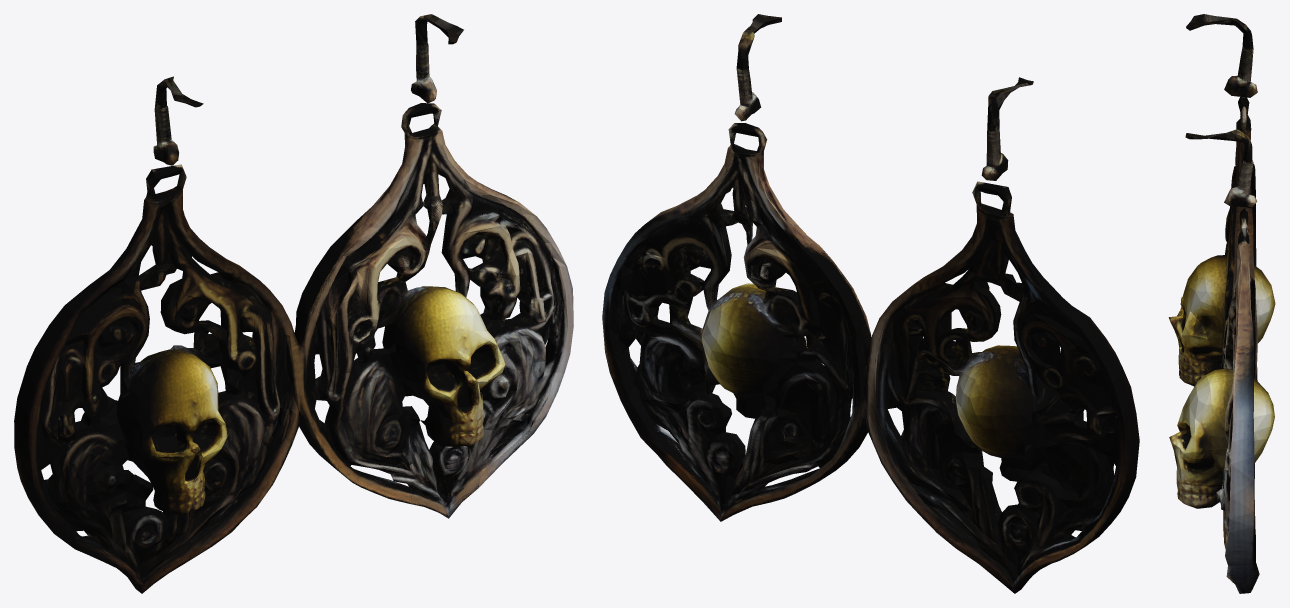
File: wooden-earrings-horror.jpeg.glb
The picture shows the model from 3 angles, left to right: view 1: azimuth 30°, elevation 25°; view 2: azimuth 150°, elevation 25°; view 3: azimuth 270°, elevation 25°; orthographic projection. The views are drawn at different scales.
Visible parts, largest first — view 1: world; view 2: world; view 3: world.
Part boxes in pixels (<box>): world: <box>14,14,573,593</box>; world: <box>602,14,1139,593</box>; world: <box>1168,14,1275,593</box>.
Bounding box in the file's own units: 1 × 0.8952 × 0.1916.
1 material, 1 textured.
